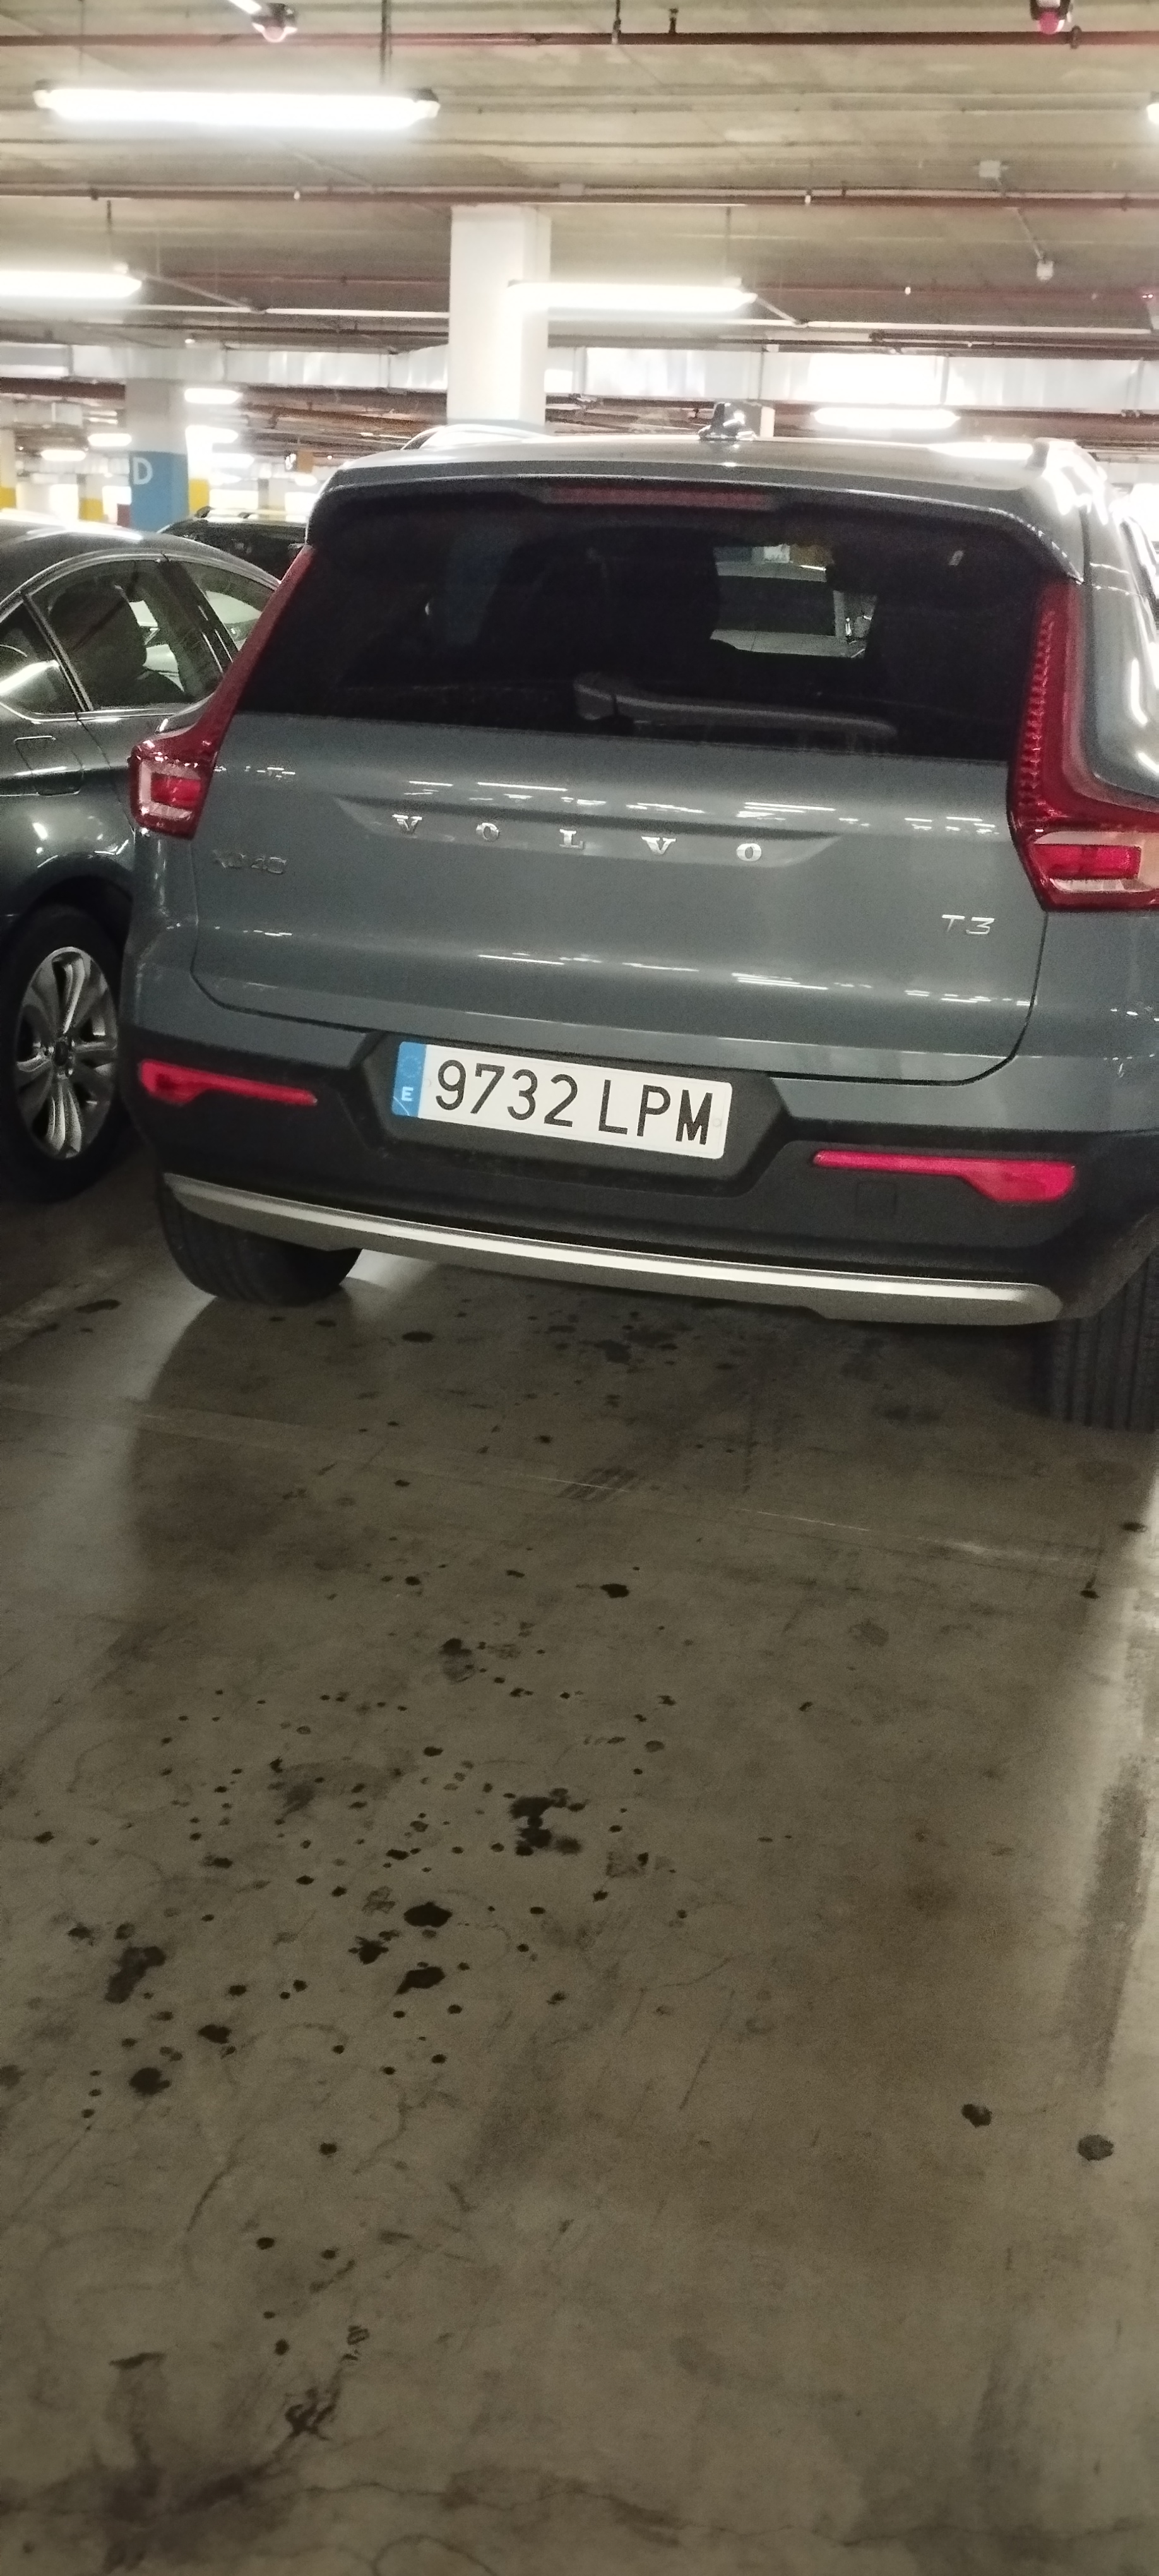Car: (125, 433, 1158, 1434)
Plate: (399, 1039, 730, 1119)
